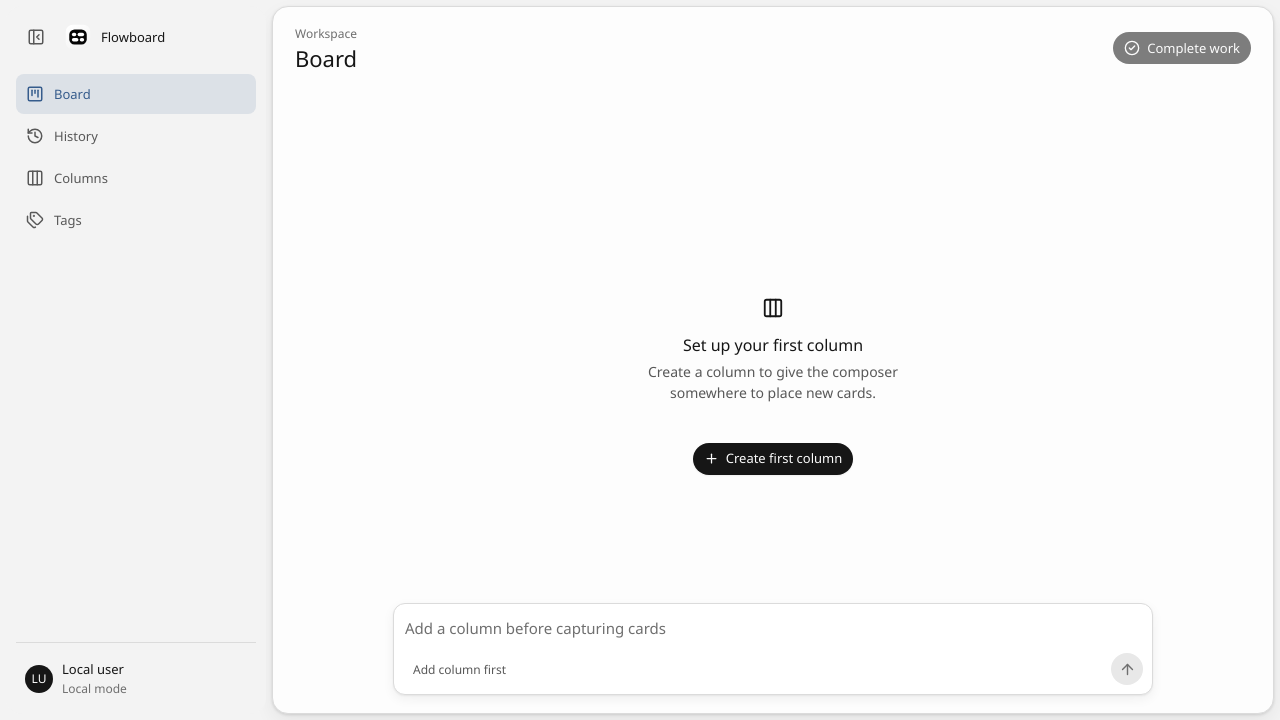
Test: closes a create dialog with Escape without saving
This screenshot has width=1280, height=720.
Step 1. Click the button "Create first column" → (773, 459), box 693,443 -> 853,475
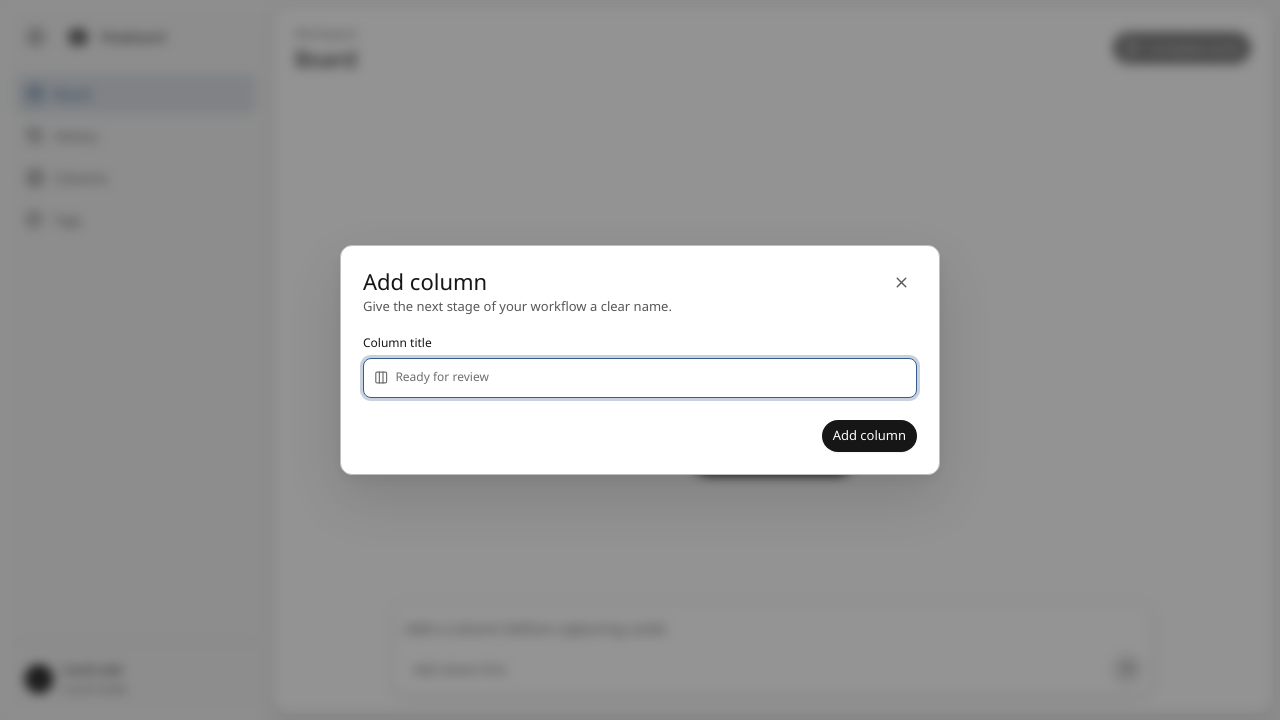
Step 2. Type "Todo" into the field labelled "Column title" → (651, 378), box 395,359 -> 906,396
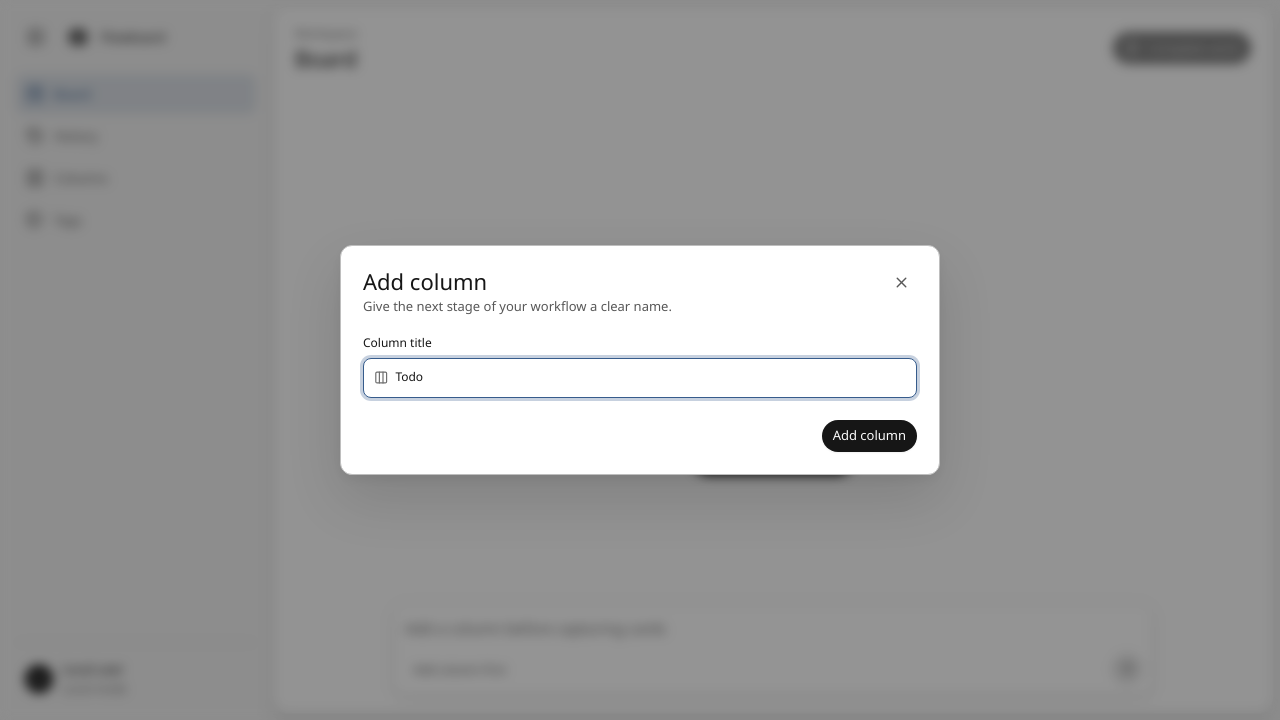
Step 3. Press Escape
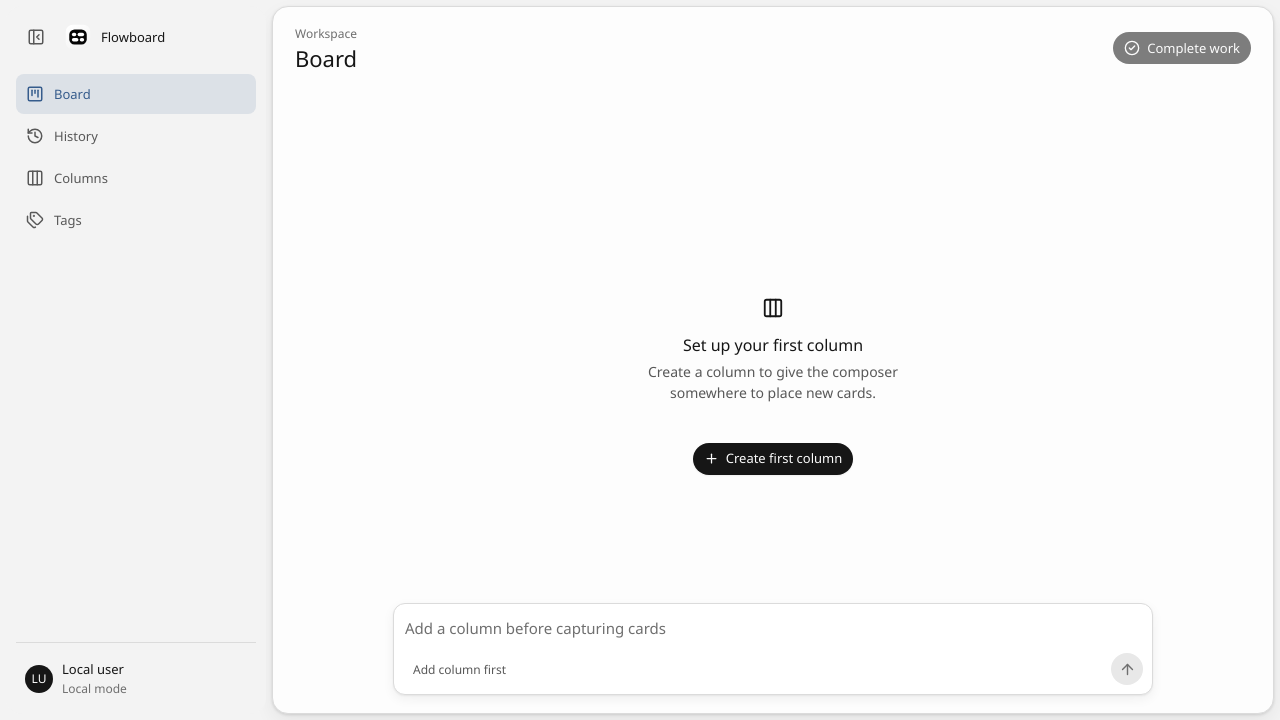
Now the dialog is gone
